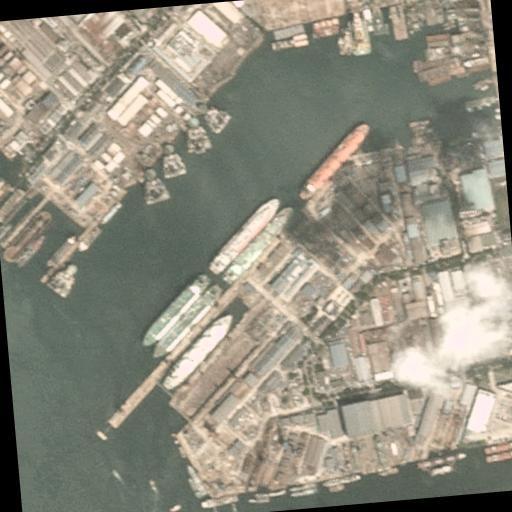ship: (204, 194, 286, 274), (218, 208, 298, 288), (292, 120, 374, 198), (156, 315, 238, 388), (136, 270, 214, 346), (147, 286, 224, 358), (0, 208, 57, 264), (14, 234, 48, 268), (74, 226, 104, 254), (268, 34, 308, 54), (184, 464, 206, 496), (99, 202, 124, 224), (309, 26, 340, 40), (187, 478, 201, 501), (166, 504, 182, 512)
